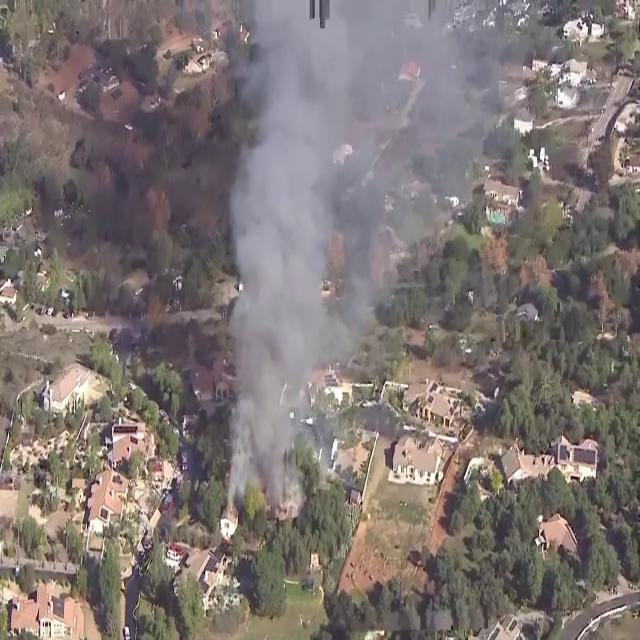Smoke: (222, 0, 390, 508)
